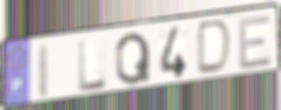4: (159, 25, 190, 81)
D: (195, 18, 234, 77)
E: (237, 12, 273, 72)
I: (36, 41, 51, 101)
L: (77, 37, 109, 95)
Q: (114, 30, 153, 87)
